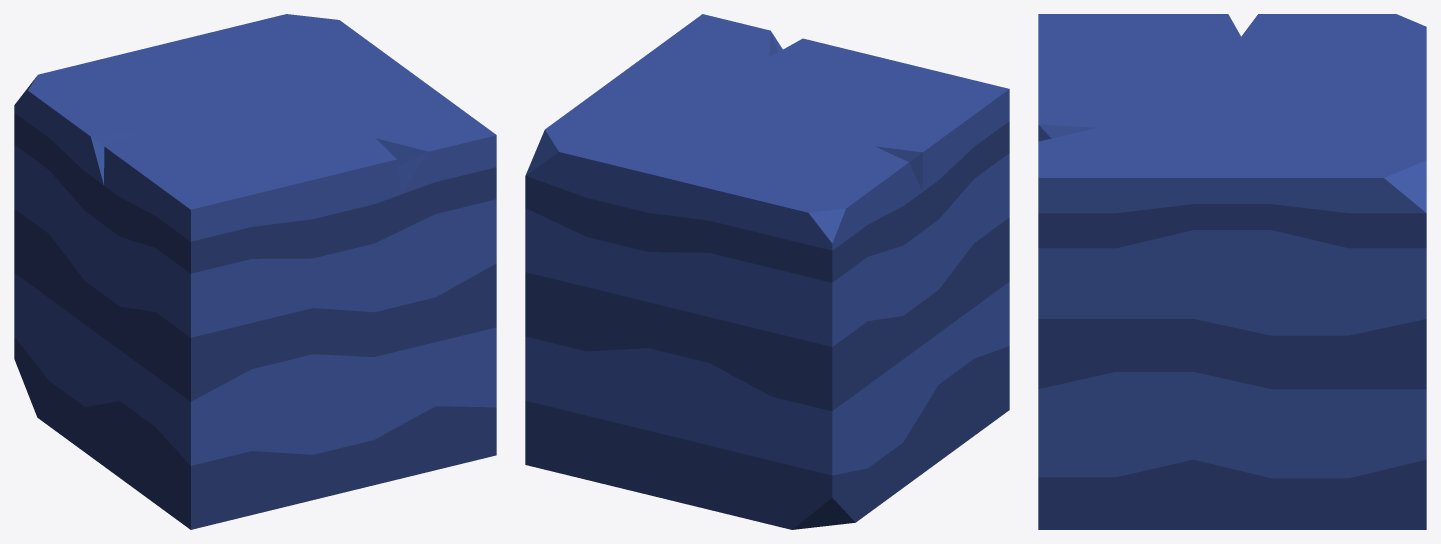
The model's file is Stone026.fbx.
3 views of the same model, side by side, from view 1: azimuth 30°, elevation 25°; view 2: azimuth 150°, elevation 25°; view 3: azimuth 270°, elevation 25° (orthographic). The views are drawn at different scales.
Visible parts, largest first — view 1: Stone026; view 2: Stone026; view 3: Stone026.
Part boxes in pixels (x1=…): Stone026: x1=14, y1=14, x2=496, y2=529; Stone026: x1=525, y1=14, x2=1009, y2=529; Stone026: x1=1038, y1=14, x2=1426, y2=529.
Size of the model in its own units: 156 by 156 by 156.
